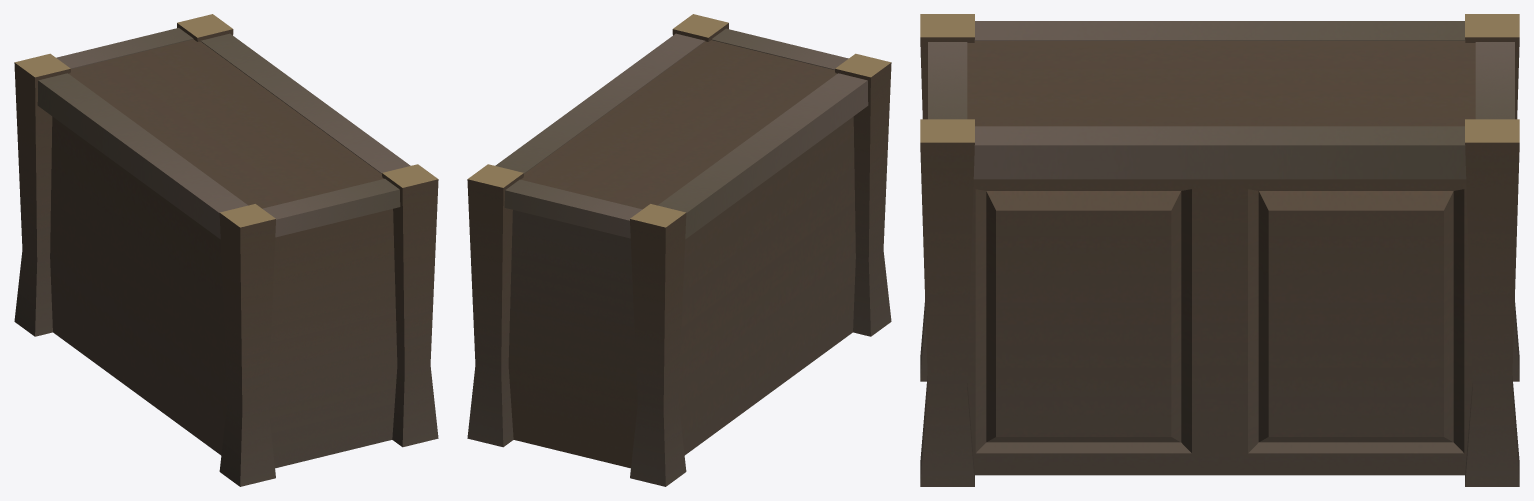
Rendered from Tavern_Table_2.fbx.
3 views of the same model, side by side, from view 1: azimuth 30°, elevation 25°; view 2: azimuth 150°, elevation 25°; view 3: azimuth 270°, elevation 25° (orthographic). The views are drawn at different scales.
Visible parts, largest first — view 1: pCube804; view 2: pCube804; view 3: pCube804.
Boxes of the visible parts, x1,y1,x2,y2 form: pCube804: (14,14,438,486); pCube804: (467,14,891,486); pCube804: (920,14,1519,486).
Size of the model in its own units: 97.7 by 122 by 193.
